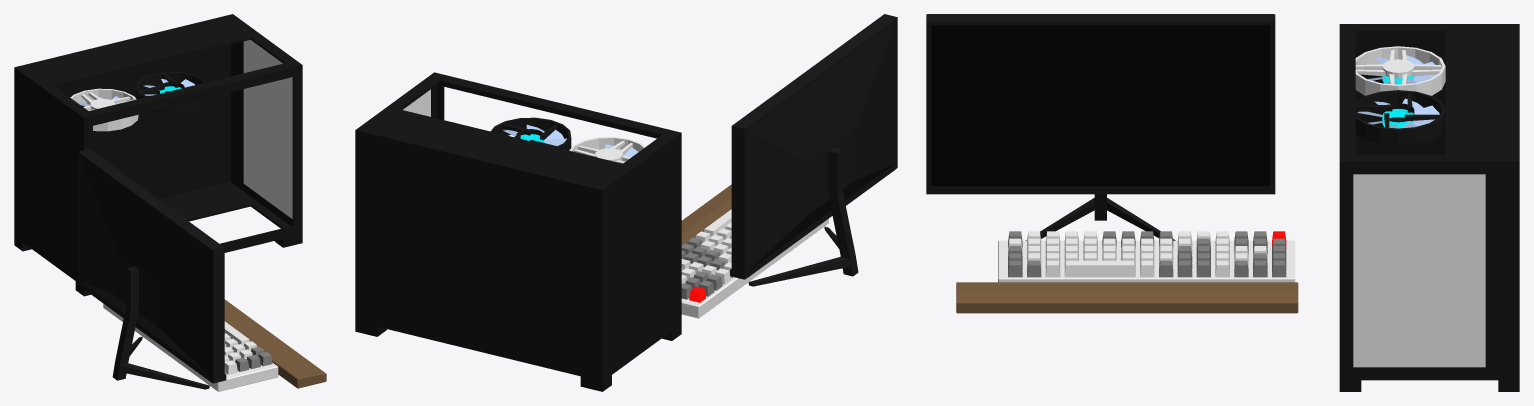
Rendered from home_pc_test_1.glb.
The picture shows the model from 3 angles, left to right: view 1: azimuth 30°, elevation 25°; view 2: azimuth 150°, elevation 25°; view 3: azimuth 270°, elevation 25°; orthographic projection. The views are drawn at different scales.
Visible parts, largest first — view 1: system_unit, monitor_1, keyboard_1, hand_rest, fan_b.1, fan_a.1; view 2: system_unit, monitor_1, keyboard_1, fan_b.1, hand_rest, fan_a.1; view 3: monitor_1, system_unit, keyboard_1, hand_rest, fan_b.1, fan_a.1, fan_b_p.1.
Part boxes in pixels (box(x1,y1,x2,y2)): system_unit: box(14, 14, 302, 296); monitor_1: box(78, 149, 226, 389); keyboard_1: box(103, 304, 278, 391); hand_rest: box(224, 299, 326, 388); fan_b.1: box(136, 71, 207, 114); fan_a.1: box(70, 88, 138, 131); system_unit: box(355, 72, 681, 391); monitor_1: box(730, 14, 897, 286); keyboard_1: box(681, 209, 828, 318); fan_b.1: box(490, 117, 571, 150); hand_rest: box(681, 184, 731, 245); fan_a.1: box(569, 137, 645, 163); monitor_1: box(926, 14, 1275, 240); system_unit: box(1339, 24, 1519, 391); keyboard_1: box(998, 231, 1295, 282); hand_rest: box(956, 282, 1298, 313); fan_b.1: box(1355, 90, 1445, 145); fan_a.1: box(1355, 46, 1445, 95); fan_b_p.1: box(1357, 98, 1439, 128).
Bounding box in the file's own units: 3.71 × 2.26 × 5.27.
